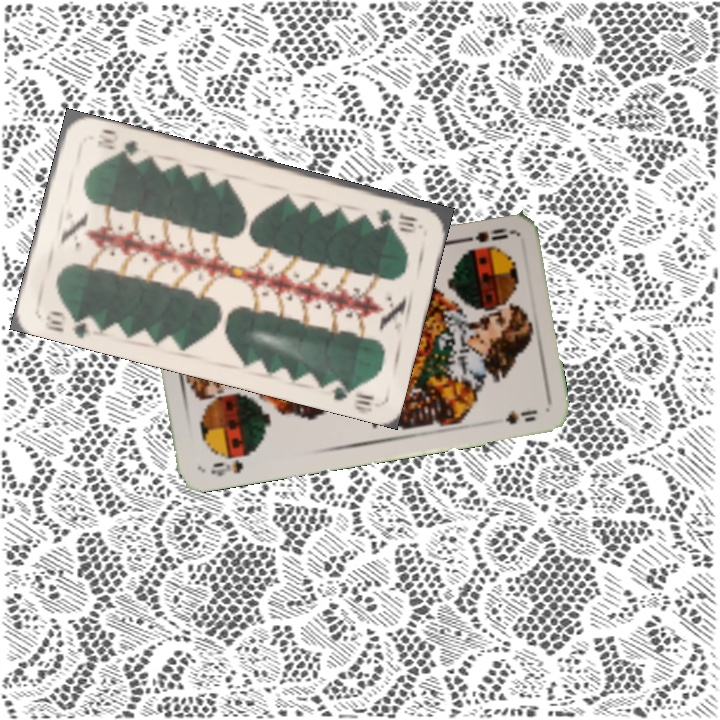G10: (40, 306, 98, 340), (372, 205, 421, 233)
SO: (206, 448, 257, 479), (455, 224, 514, 245)
